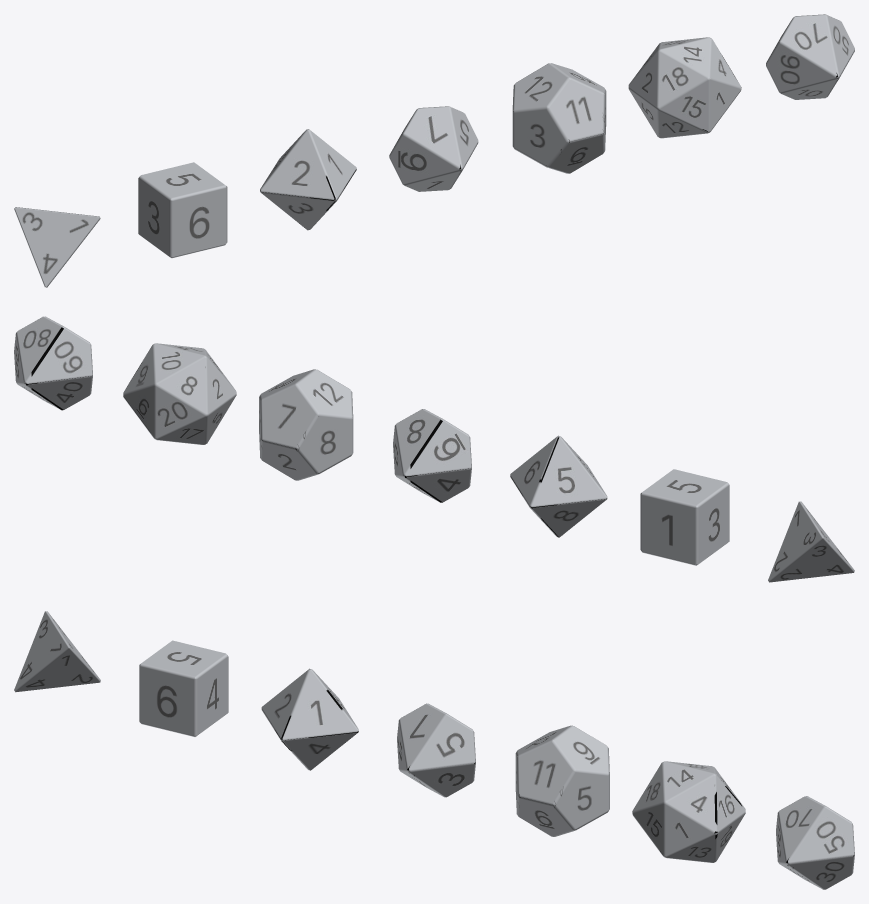
File: metal_diceset.glb
3 renders of one model, top to bottom at view 1: azimuth 30°, elevation 25°; view 2: azimuth 150°, elevation 25°; view 3: azimuth 330°, elevation 25°, orthographic.
Parts seen in each view (by area): view 1: d12, d20, d6, d10, d100, d8, d4; view 2: d12, d20, d6, d100, d10, d8, d4; view 3: d12, d20, d6, d10, d100, d8, d4.
Boxes of the visible parts, <box> form: d12: <box>512,63,606,173</box>; d20: <box>628,37,741,138</box>; d6: <box>138,162,227,258</box>; d10: <box>389,106,478,191</box>; d100: <box>766,14,854,99</box>; d8: <box>260,129,356,230</box>; d4: <box>14,207,100,287</box>; d12: <box>259,369,353,480</box>; d20: <box>123,343,236,444</box>; d6: <box>640,469,729,565</box>; d100: <box>14,316,92,410</box>; d10: <box>393,409,471,502</box>; d8: <box>510,435,607,537</box>; d4: <box>768,501,854,582</box>; d12: <box>515,725,609,836</box>; d20: <box>632,761,745,862</box>; d6: <box>139,640,228,736</box>; d10: <box>397,703,475,797</box>; d100: <box>776,796,854,889</box>; d8: <box>261,668,358,770</box>; d4: <box>14,611,100,692</box>.
Size of the model in its own units: 16.37 by 1.89 by 1.89.
Materials: 7 (7 with a texture image).
